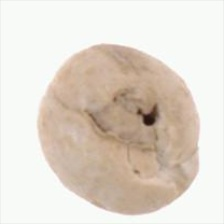L3: (89, 87, 173, 159)
L4: (36, 44, 200, 215)
